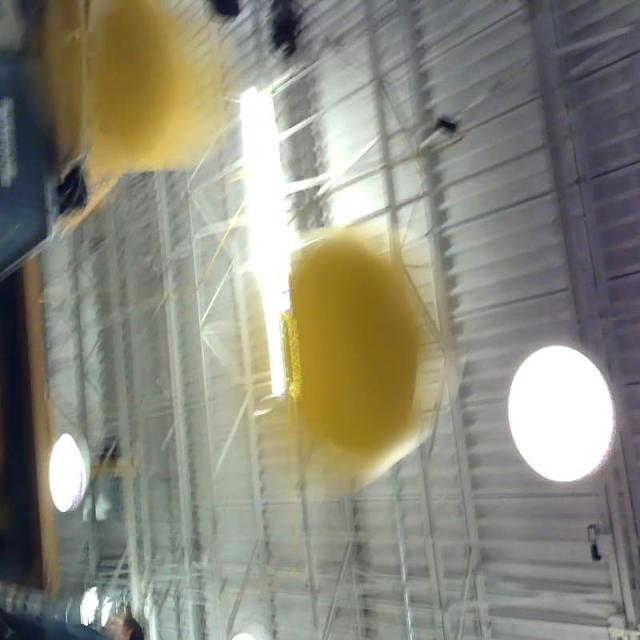Fuel: (276, 233, 418, 467), (73, 0, 178, 160)
